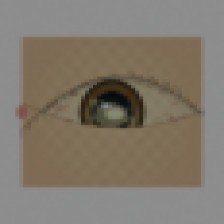corneal_ulcer: (82, 92, 140, 138)
